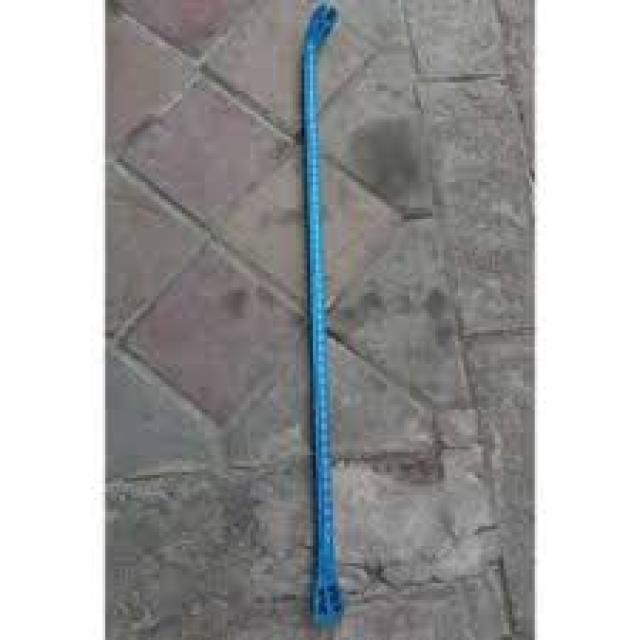Linggis: (283, 5, 362, 640)
